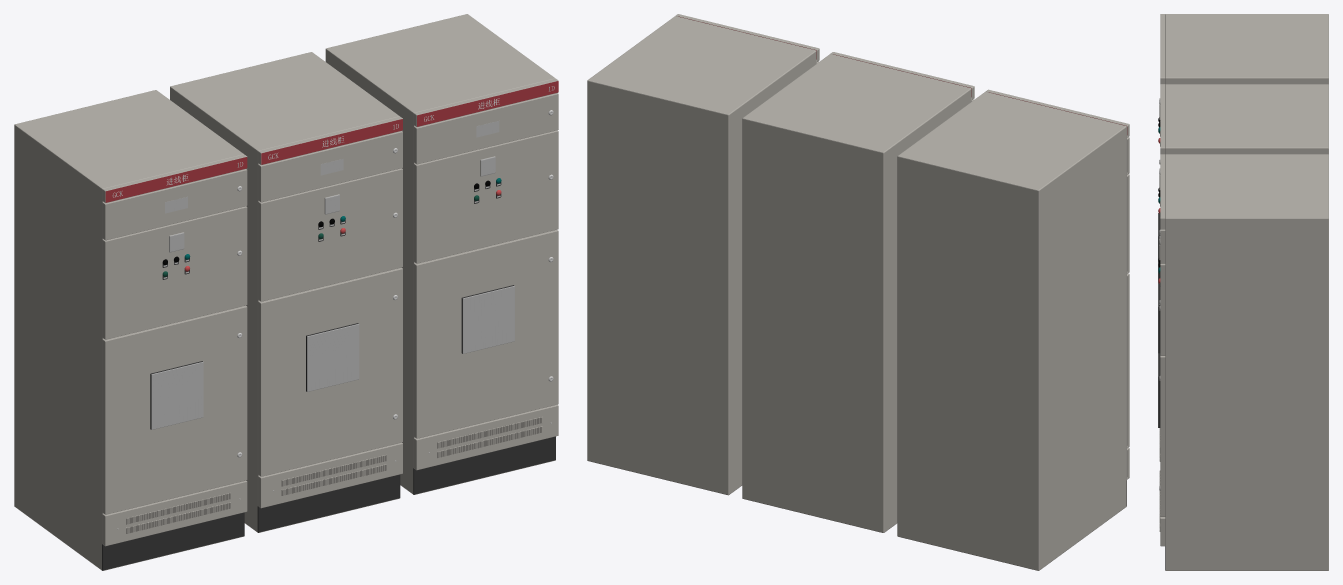
File: Multi.fbx
The picture shows the model from 3 angles, left to right: view 1: azimuth 30°, elevation 25°; view 2: azimuth 150°, elevation 25°; view 3: azimuth 270°, elevation 25°; orthographic projection. The views are drawn at different scales.
Parts seen in each view (by area): view 1: 000001G0010001, 000001G0010002, Box003; view 2: 000001G0010001, Box003, 000001G0010002; view 3: Box003, 000001G0010002, 000001G0010001.
Part boxes in pixels (box(x1,y1,x2,y2)): 000001G0010001: box(14, 90, 247, 570); 000001G0010002: box(170, 52, 402, 532); Box003: box(325, 14, 558, 494); 000001G0010001: box(897, 89, 1129, 570); Box003: box(587, 14, 819, 495); 000001G0010002: box(742, 52, 974, 532); Box003: box(1158, 154, 1328, 570); 000001G0010002: box(1158, 84, 1328, 461); 000001G0010001: box(1158, 14, 1328, 282).
Size of the model in its own units: 729 by 587 by 257.
